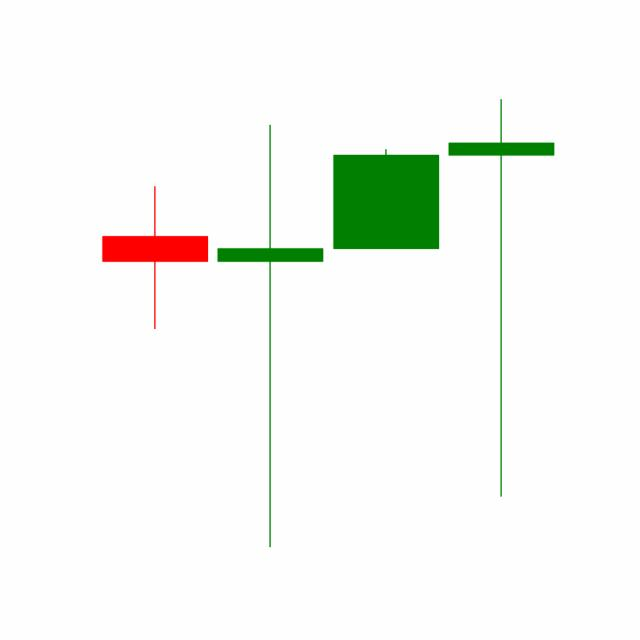Marubozu: (328, 146, 444, 250)
